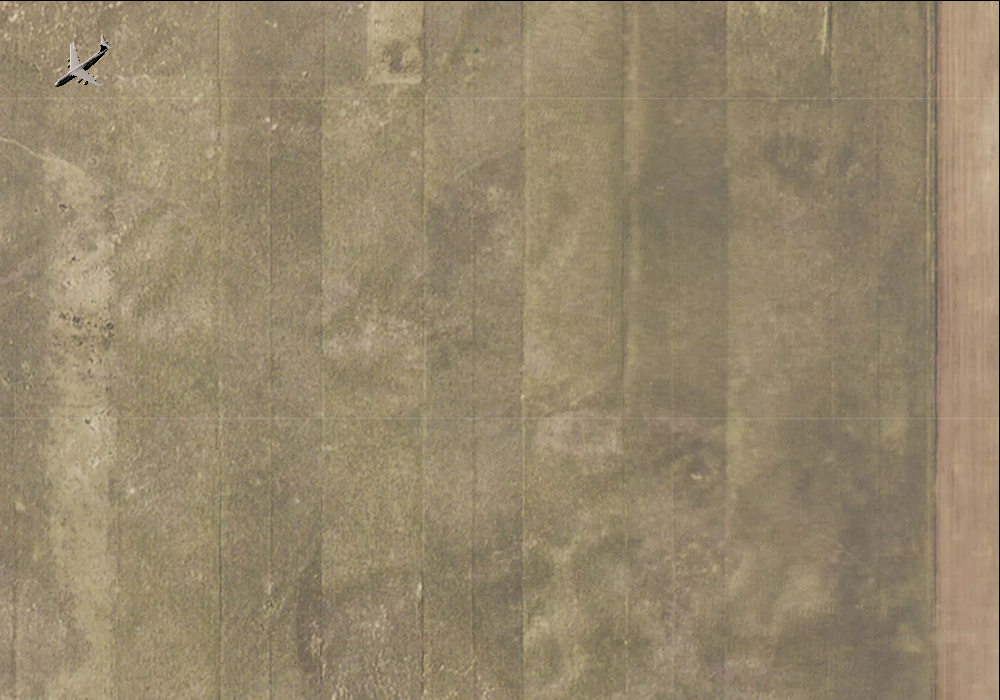plane: (34, 17, 128, 109)
